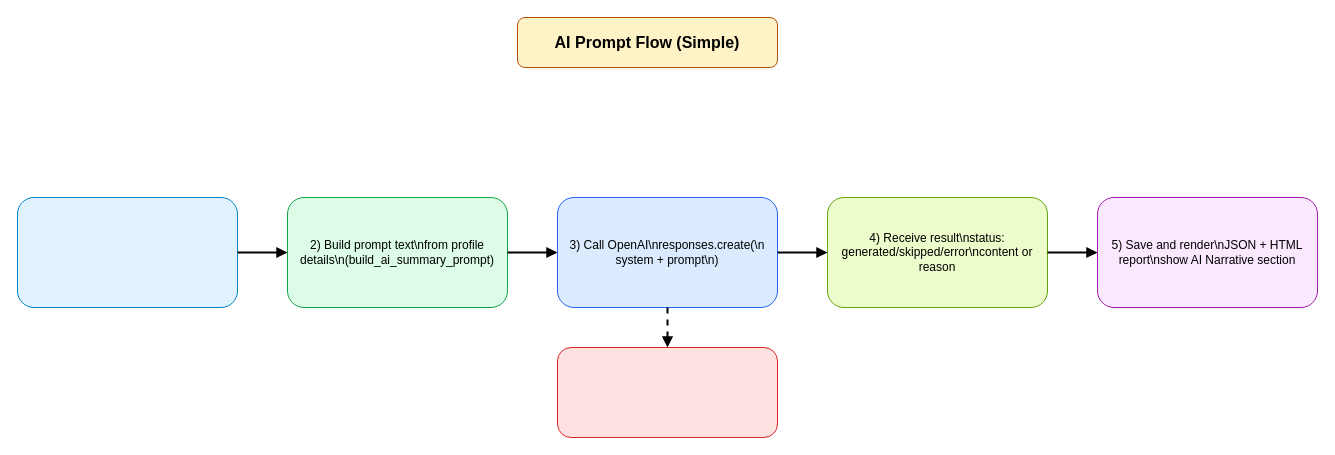
This 1335x455 diagram has some shape labels left out. The centre of each missing label's shape, as x and y in pixels:
"1) Build profile stats\nrows, columns, missing,\ncolumn summaries" belongs at point (127, 252).
"No API key?\nSkip OpenAI call and\nstore status=skipped" belongs at point (667, 392).
